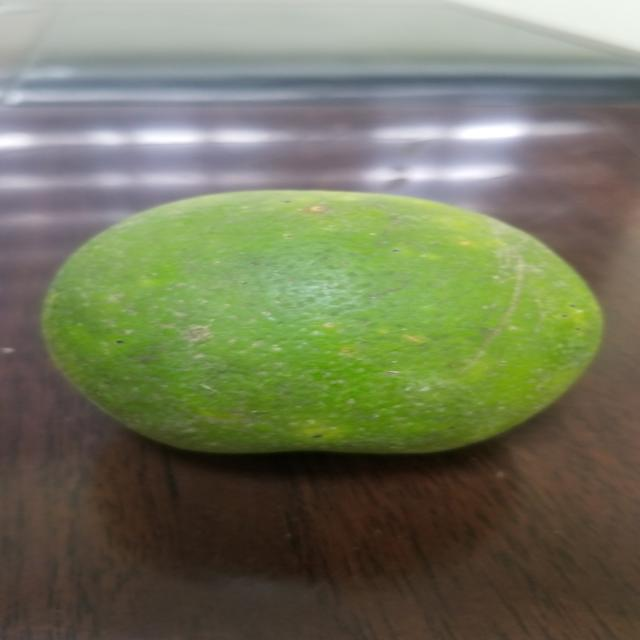Ripe orange: (45, 191, 640, 460)
